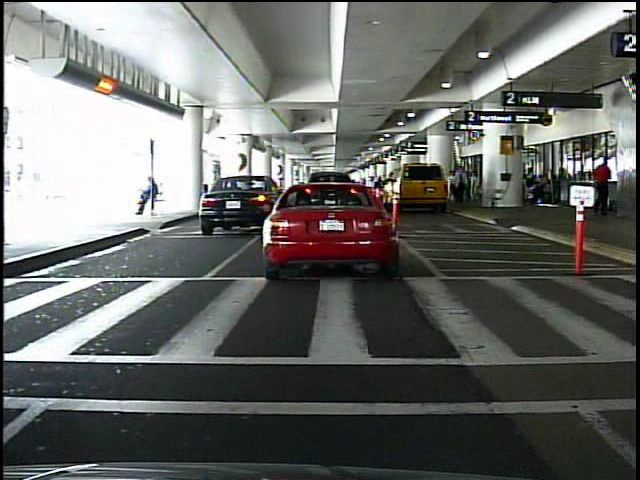person: (624, 135, 637, 306), (593, 157, 611, 217)
